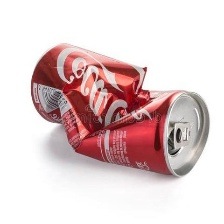can: (25, 38, 213, 180)
